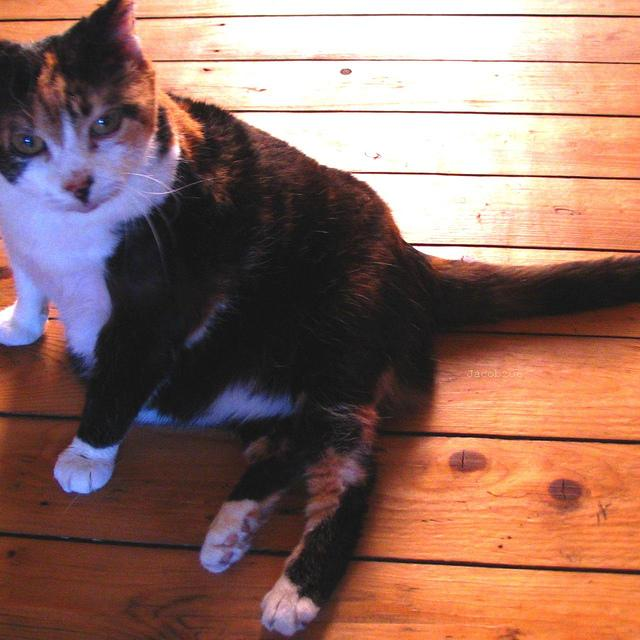animals: (0, 0, 136, 195)
